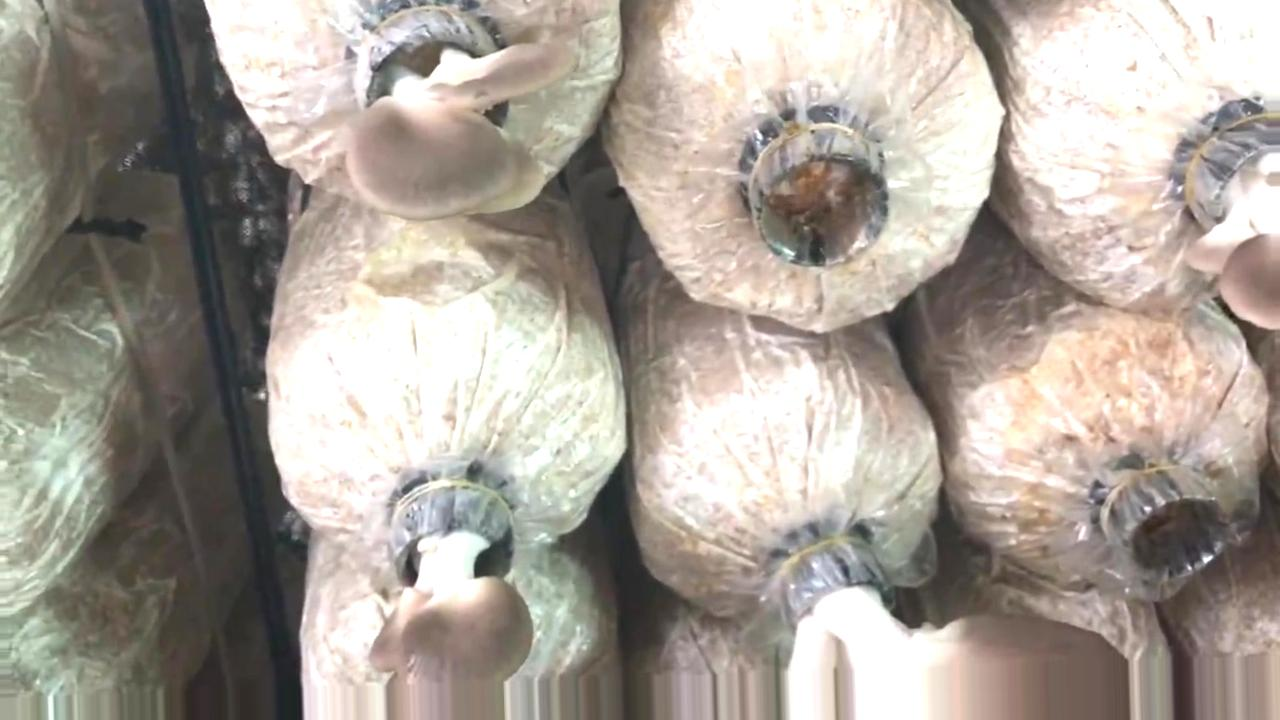nam: (784, 516, 1128, 720), (346, 1, 585, 230), (370, 460, 534, 720), (1188, 103, 1280, 333)
